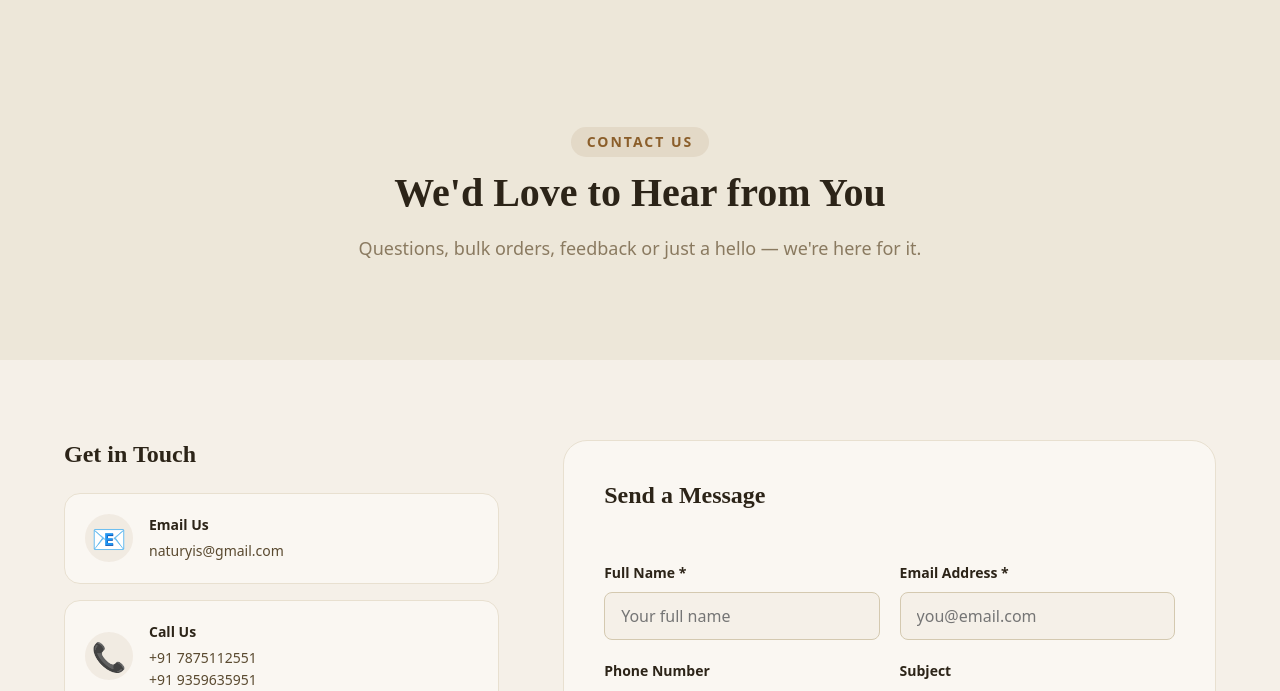
Scenario: Contact Page › shows success message on valid form submission
Type "Test User" into the field labelled "Full Name *" at (742, 616), box 604,592 -> 880,640
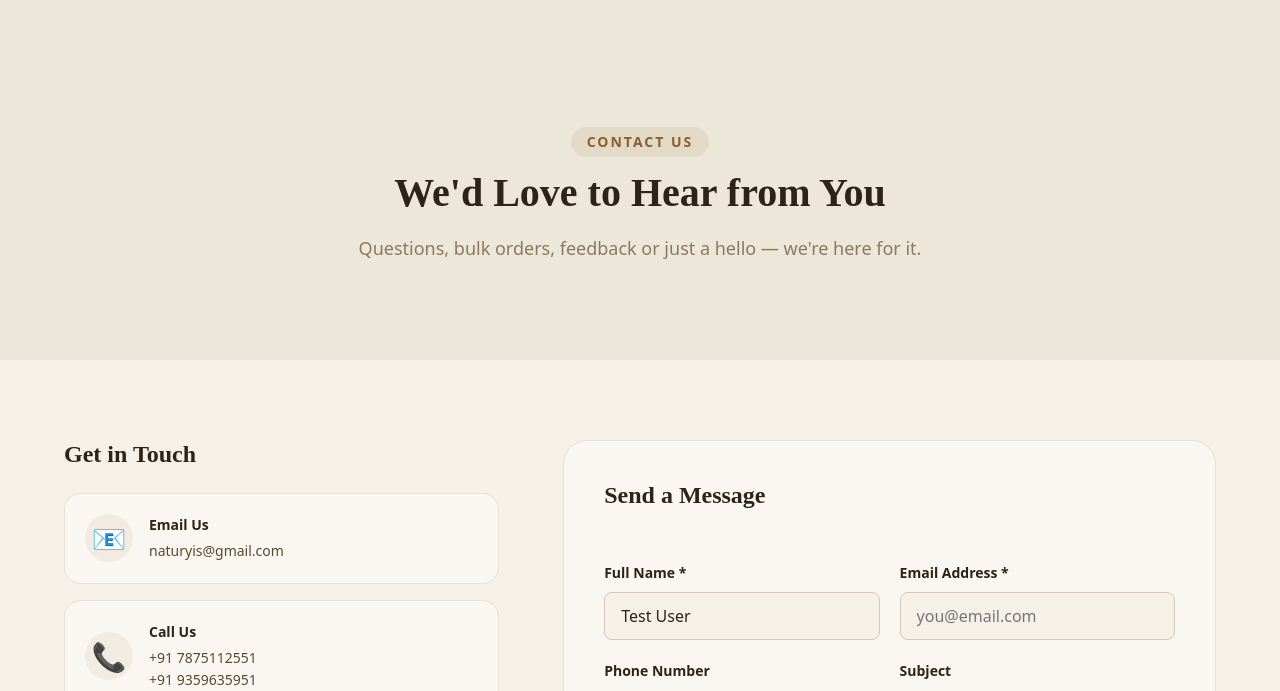
Type "test@example.com" into the field labelled "Email Address *" at (1037, 616), box 900,592 -> 1175,640
(page scrolled)
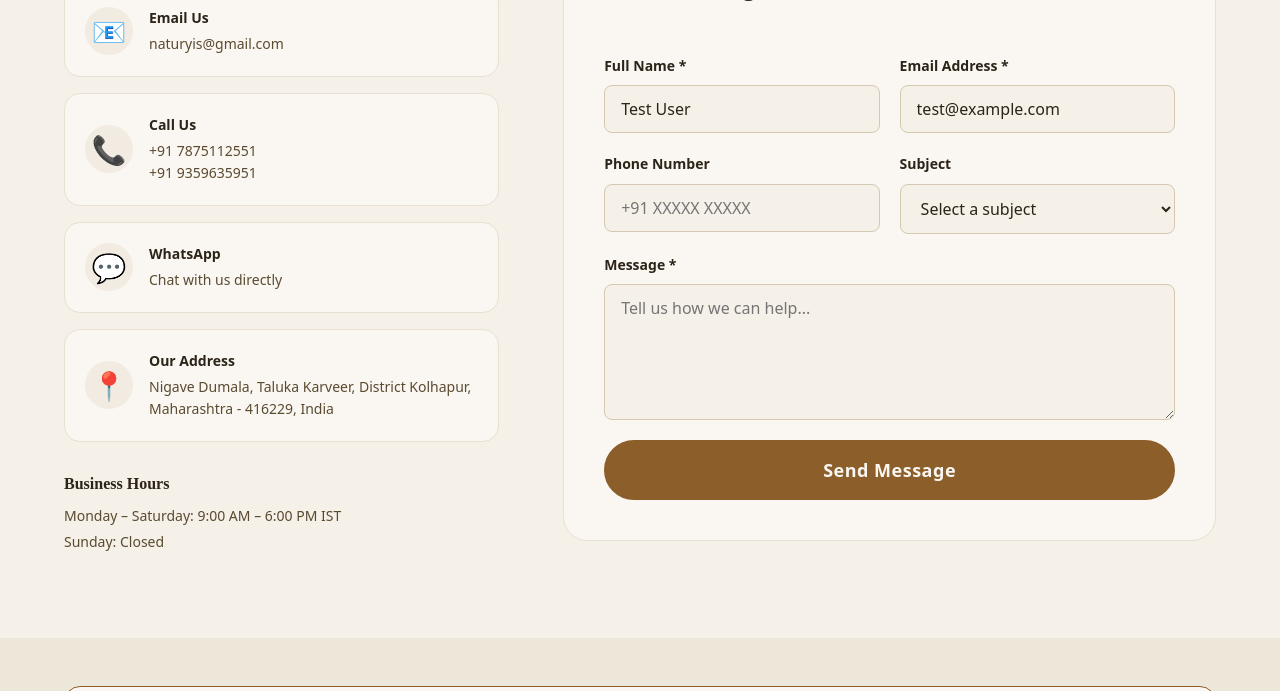
Type "This is a test message." into the text box labelled "Message *" at (890, 352), box 604,284 -> 1175,420
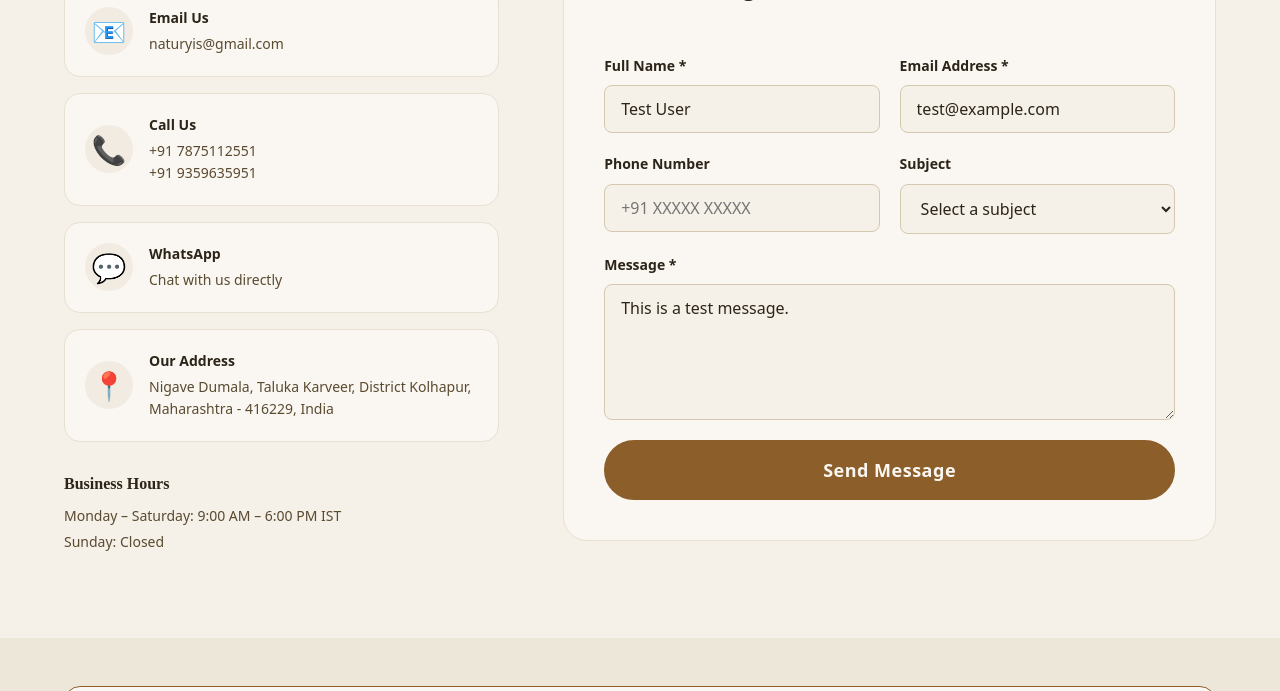
Click the button "Send Message" at (890, 470), box 604,440 -> 1175,500
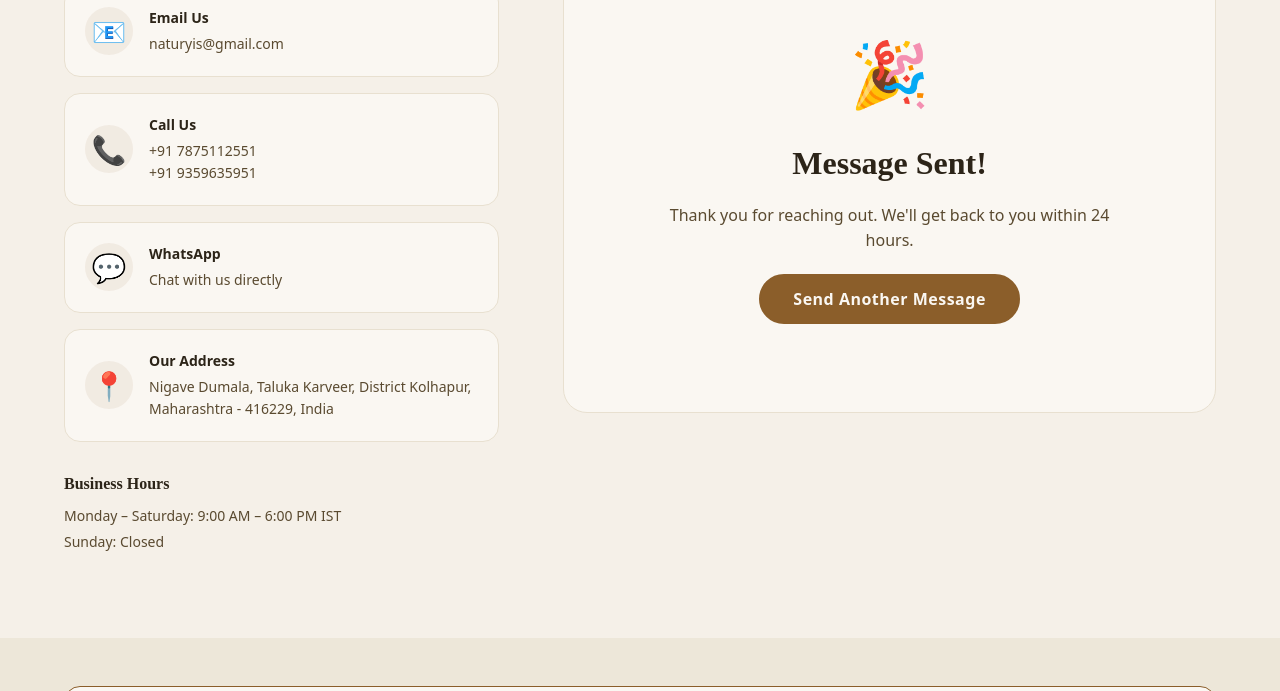
Now the heading "Message Sent!" is shown, box 792,144 -> 987,183
